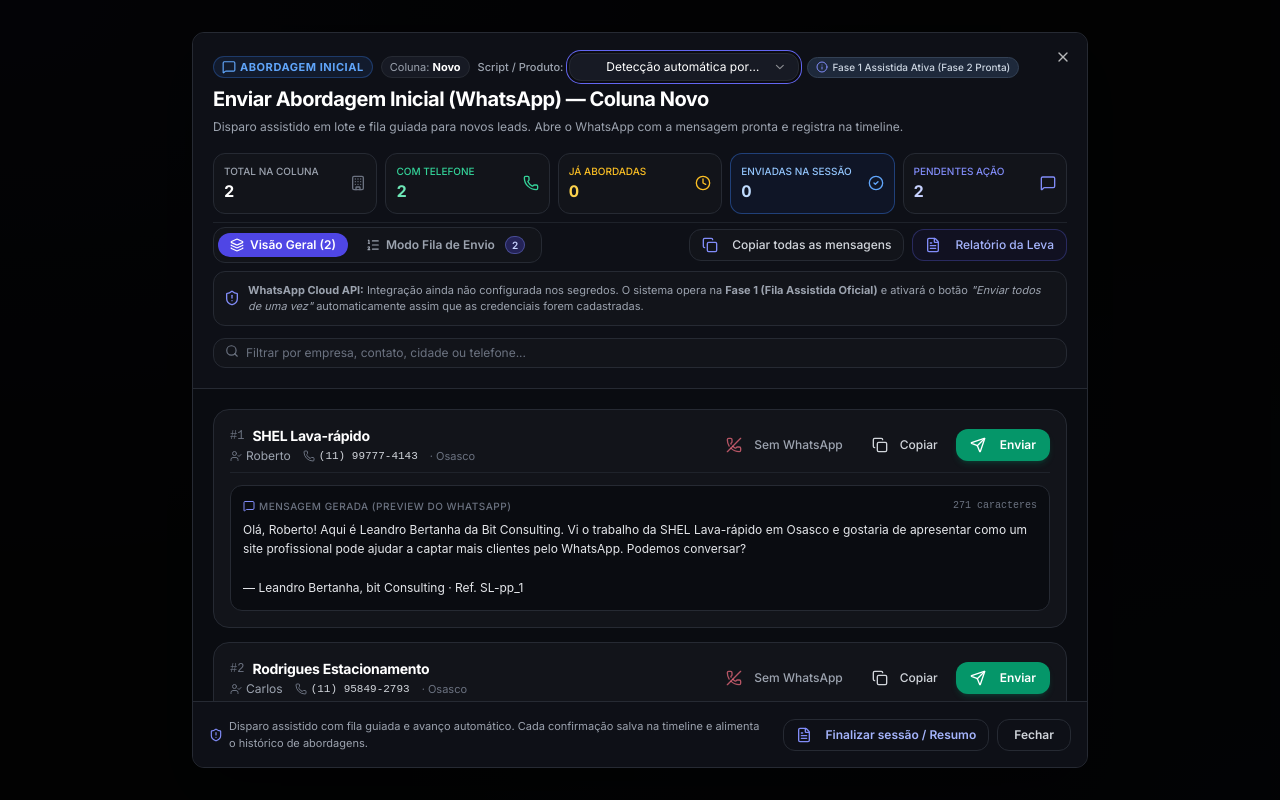
BatchWhatsAppModal — Status Enviada em Azul › exibe ação "Sem WhatsApp" em cada item e abre modal de confirmação com texto padrão
Ao clicar, abre o diálogo de confirmação
Click the button with test id "btn-mark-lost-opp_1" at (785, 444), box [715,428,854,460]
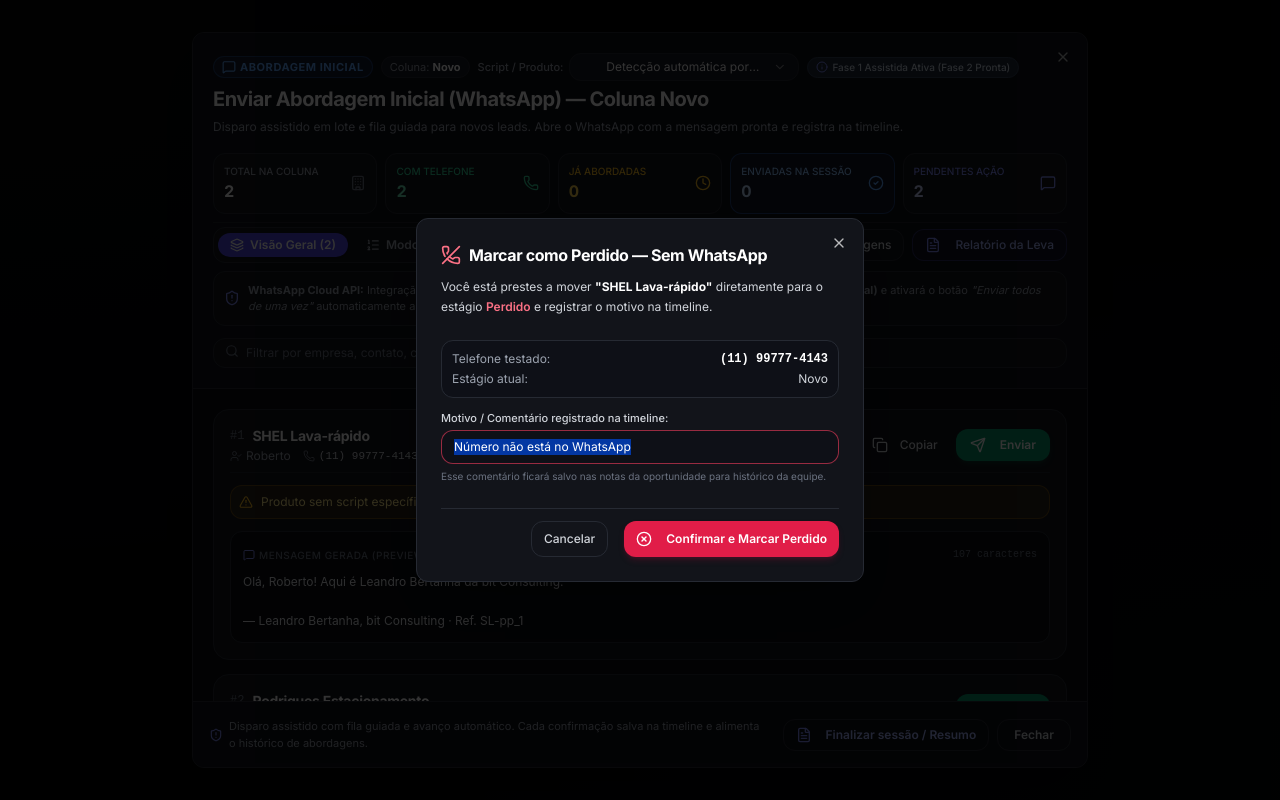
Check: the dialog with test id "dialog-mark-lost" is shown, box [416,218,864,582]
Check: the dialog with test id "dialog-mark-lost" shows "Marcar como Perdido — Sem WhatsApp", box [469,245,767,265]
Check: the dialog with test id "dialog-mark-lost" shows "SHEL Lava-rápido", box [602,279,706,294]
